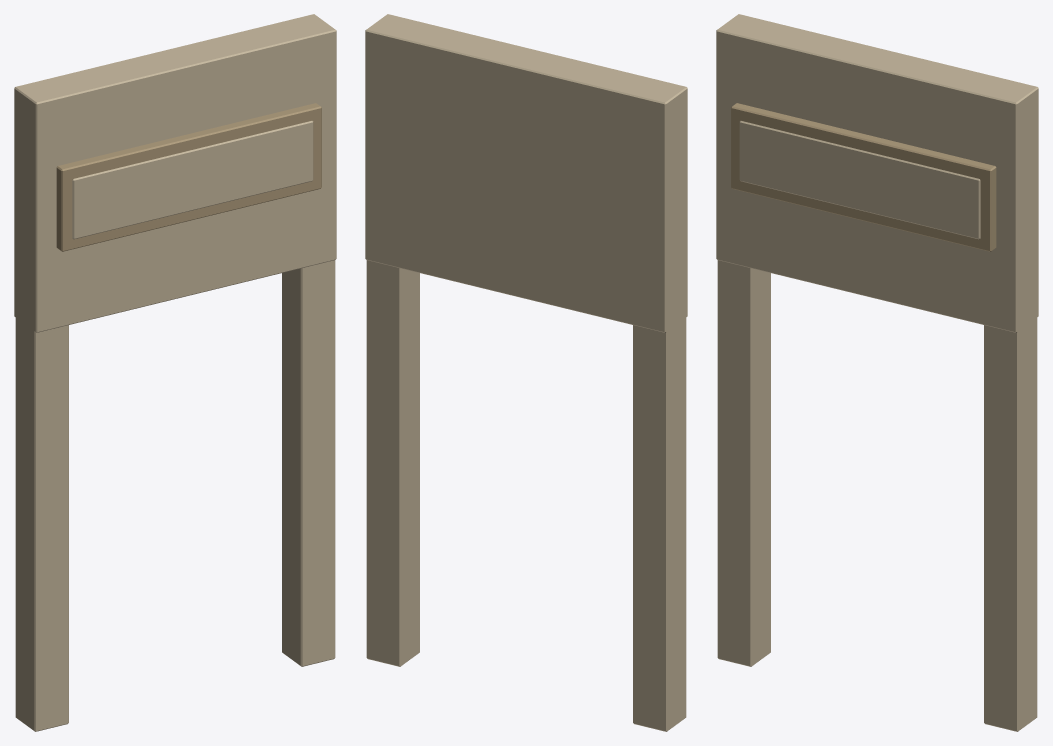
File: hall_door_wall.glb
3 renders of one model, left to right at view 1: azimuth 30°, elevation 25°; view 2: azimuth 150°, elevation 25°; view 3: azimuth 330°, elevation 25°, orthographic.
Visible parts, largest first — view 1: wall; view 2: wall; view 3: wall.
Part boxes in pixels (x1=…): wall: x1=14, y1=14, x2=336, y2=731; wall: x1=365, y1=14, x2=687, y2=731; wall: x1=716, y1=14, x2=1038, y2=731.
Size of the model in its own units: 2.6 by 5.2 by 0.44.
